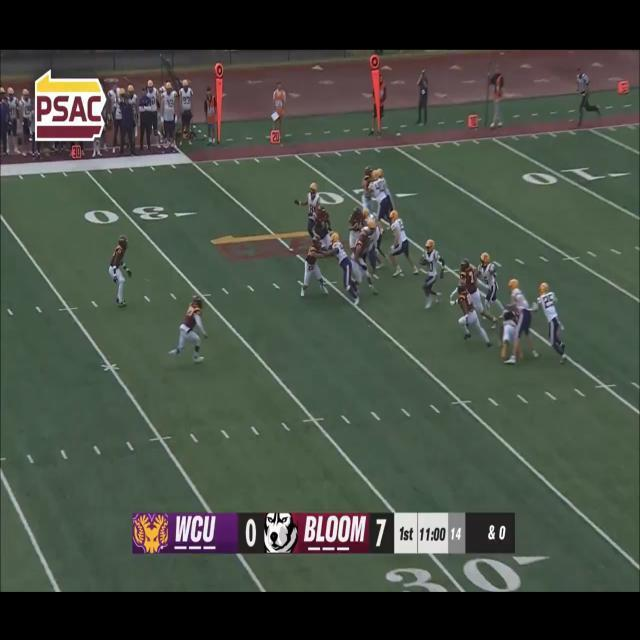football: (416, 252, 428, 272)
